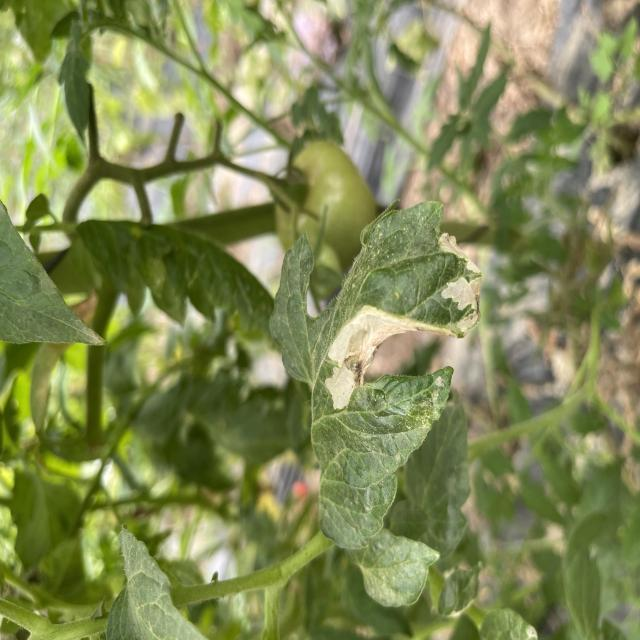Tuta absoluta: (298, 276, 449, 428), (438, 274, 483, 332), (434, 230, 489, 275)
